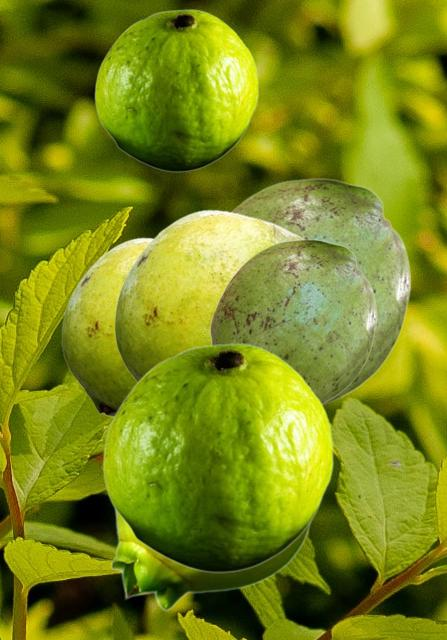guava: (102, 343, 332, 572), (231, 178, 410, 406), (114, 209, 306, 382), (209, 239, 376, 403), (94, 9, 257, 171), (110, 507, 313, 610), (61, 237, 152, 417)
